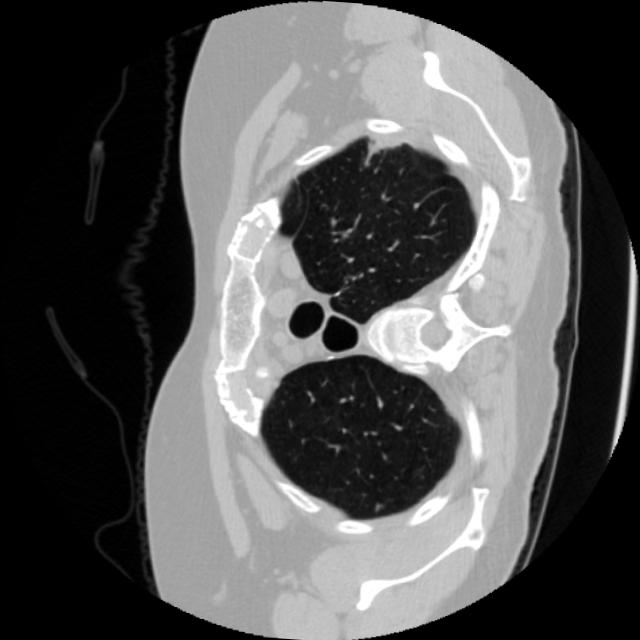nodule: (366, 493, 389, 516)
